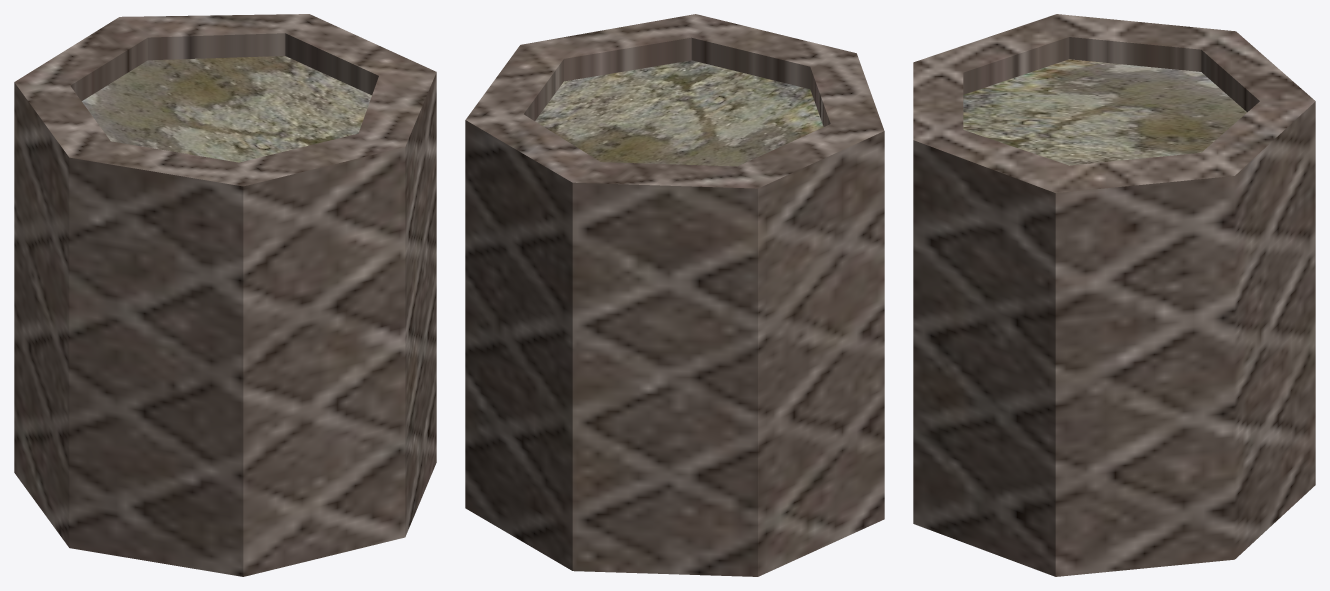
File: barreld.dae
The picture shows the model from 3 angles, left to right: view 1: azimuth 30°, elevation 25°; view 2: azimuth 150°, elevation 25°; view 3: azimuth 270°, elevation 25°; orthographic projection.
Parts seen in each view (by area): view 1: Cylinder; view 2: Cylinder; view 3: Cylinder.
Boxes of the visible parts, bbox=[...] form: Cylinder: bbox=[14, 14, 436, 576]; Cylinder: bbox=[465, 14, 884, 576]; Cylinder: bbox=[913, 14, 1315, 576].
Bounding box in the file's own units: 1.97 × 1.9 × 2.02.
2 materials, 2 textured.
